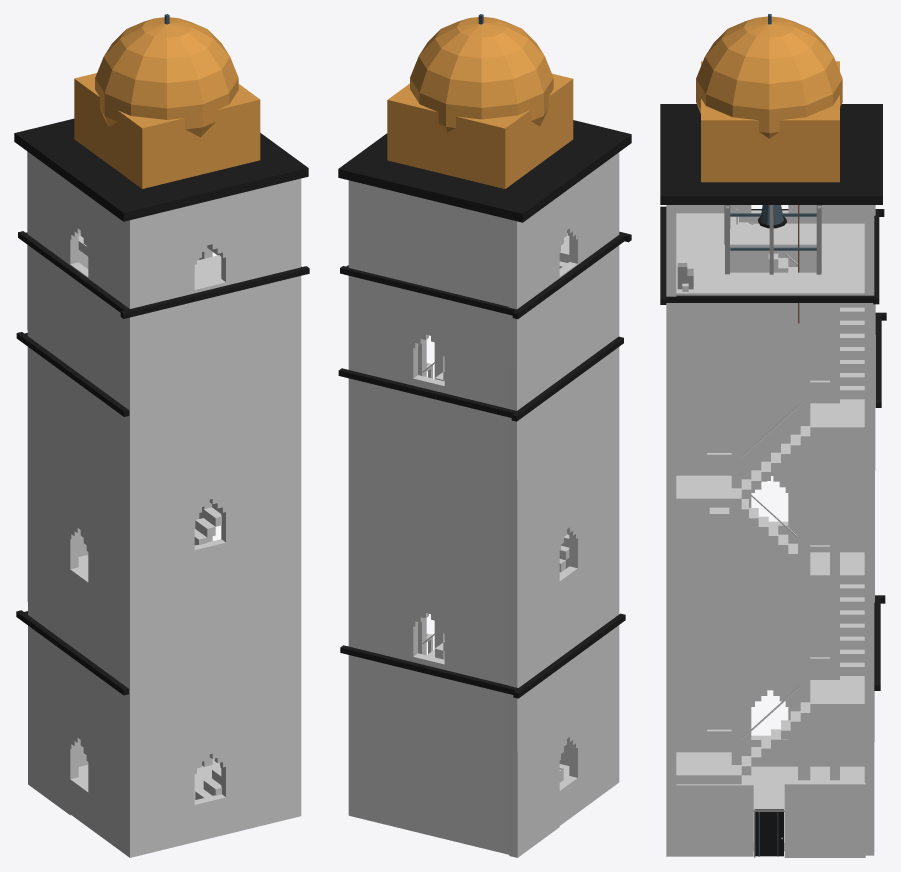
File: scene_6PgsMpjIFp.glb
The picture shows the model from 3 angles, left to right: view 1: azimuth 30°, elevation 25°; view 2: azimuth 150°, elevation 25°; view 3: azimuth 270°, elevation 25°; orthographic projection. The views are drawn at different scales.
Visible parts, largest first — view 1: group1604582093, group1976830537, group1045074205, group574816060, group964120841, group105727944, group1201431634, group337973671, group1866638626, group643500089, group741339097, group1385060459 (+3 smaller); view 2: group374075859, group1045074205, group964120841, group1089191578, group105727944, group1201431634, group337973671, group1866638626, group1088554574, group1976830537, group156052202, group1859309927 (+7 smaller); view 3: group1045074205, group337973671, group105727944, group1866638626, group1201431634, group1174784937, group877013146, group1983009641, group973303925, group374075859, group1549574151, group1623470127 (+24 smaller).
Part boxes in pixels (left/top/right/bottom): group1604582093: left=125, top=279, right=301, bottom=600; group1976830537: left=125, top=561, right=301, bottom=857; group1045074205: left=27, top=293, right=125, bottom=815; group574816060: left=125, top=178, right=301, bottom=320; group964120841: left=27, top=151, right=125, bottom=364; group105727944: left=95, top=17, right=238, bottom=137; group1201431634: left=74, top=73, right=260, bottom=188; group337973671: left=70, top=604, right=125, bottom=853; group1866638626: left=14, top=118, right=308, bottom=221; group643500089: left=120, top=266, right=309, bottom=318; group741339097: left=16, top=332, right=129, bottom=416; group1385060459: left=16, top=610, right=128, bottom=695; group374075859: left=348, top=204, right=509, bottom=854; group1045074205: left=508, top=297, right=615, bottom=857; group964120841: left=508, top=155, right=615, bottom=368; group1089191578: left=348, top=180, right=417, bottom=413; group105727944: left=410, top=17, right=553, bottom=132; group1201431634: left=387, top=73, right=573, bottom=188; group337973671: left=559, top=576, right=614, bottom=825; group1866638626: left=338, top=120, right=631, bottom=222; group1088554574: left=413, top=196, right=444, bottom=333; group1976830537: left=559, top=526, right=619, bottom=785; group156052202: left=340, top=645, right=520, bottom=694; group1859309927: left=338, top=368, right=516, bottom=417; group1045074205: left=676, top=303, right=875, bottom=741; group337973671: left=676, top=559, right=864, bottom=766; group105727944: left=696, top=16, right=842, bottom=138; group1866638626: left=660, top=104, right=882, bottom=204; group1201431634: left=701, top=61, right=839, bottom=182; group1174784937: left=784, top=780, right=865, bottom=857; group877013146: left=676, top=782, right=753, bottom=856; group1983009641: left=731, top=303, right=741, bottom=764; group973303925: left=800, top=303, right=810, bottom=780; group374075859: left=864, top=428, right=874, bottom=855; group1549574151: left=697, top=303, right=706, bottom=752; group1623470127: left=830, top=303, right=839, bottom=780.
Size of the model in its own units: 1.78 by 7.24 by 1.84.
